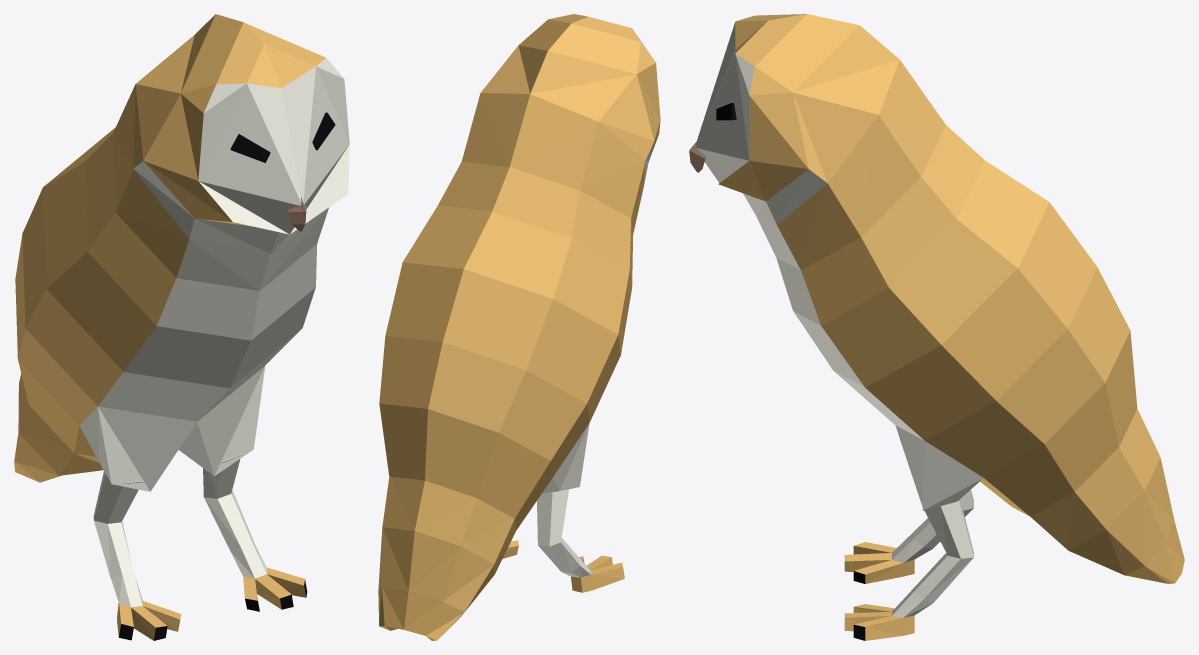
File: v_owl_barn.glb
3 renders of one model, left to right at view 1: azimuth 30°, elevation 25°; view 2: azimuth 150°, elevation 25°; view 3: azimuth 270°, elevation 25°, orthographic. The views are drawn at different scales.
Visible parts, largest first — view 1: Geo_Owl; view 2: Geo_Owl; view 3: Geo_Owl.
Part boxes in pixels (x1,y1,x2,y2): Geo_Owl: (14, 14, 349, 640); Geo_Owl: (378, 14, 660, 640); Geo_Owl: (689, 14, 1184, 640).
Bounding box in the file's own units: 0.1457 × 0.34 × 0.2603.
1 material, 1 textured.
